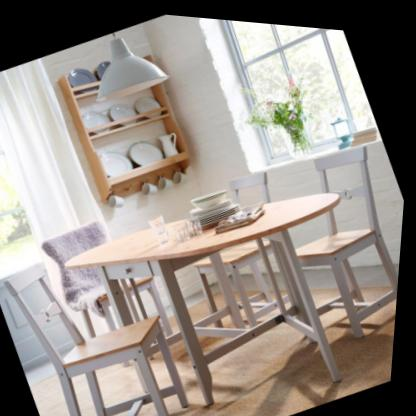Chair: (0, 221, 220, 416)
